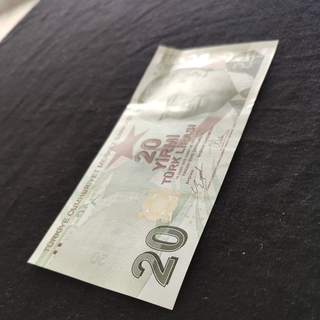20TLFront: (26, 38, 281, 310)
